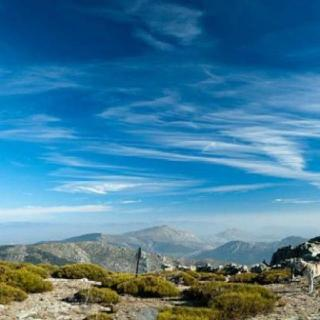Cirrus: (0, 0, 320, 222)
